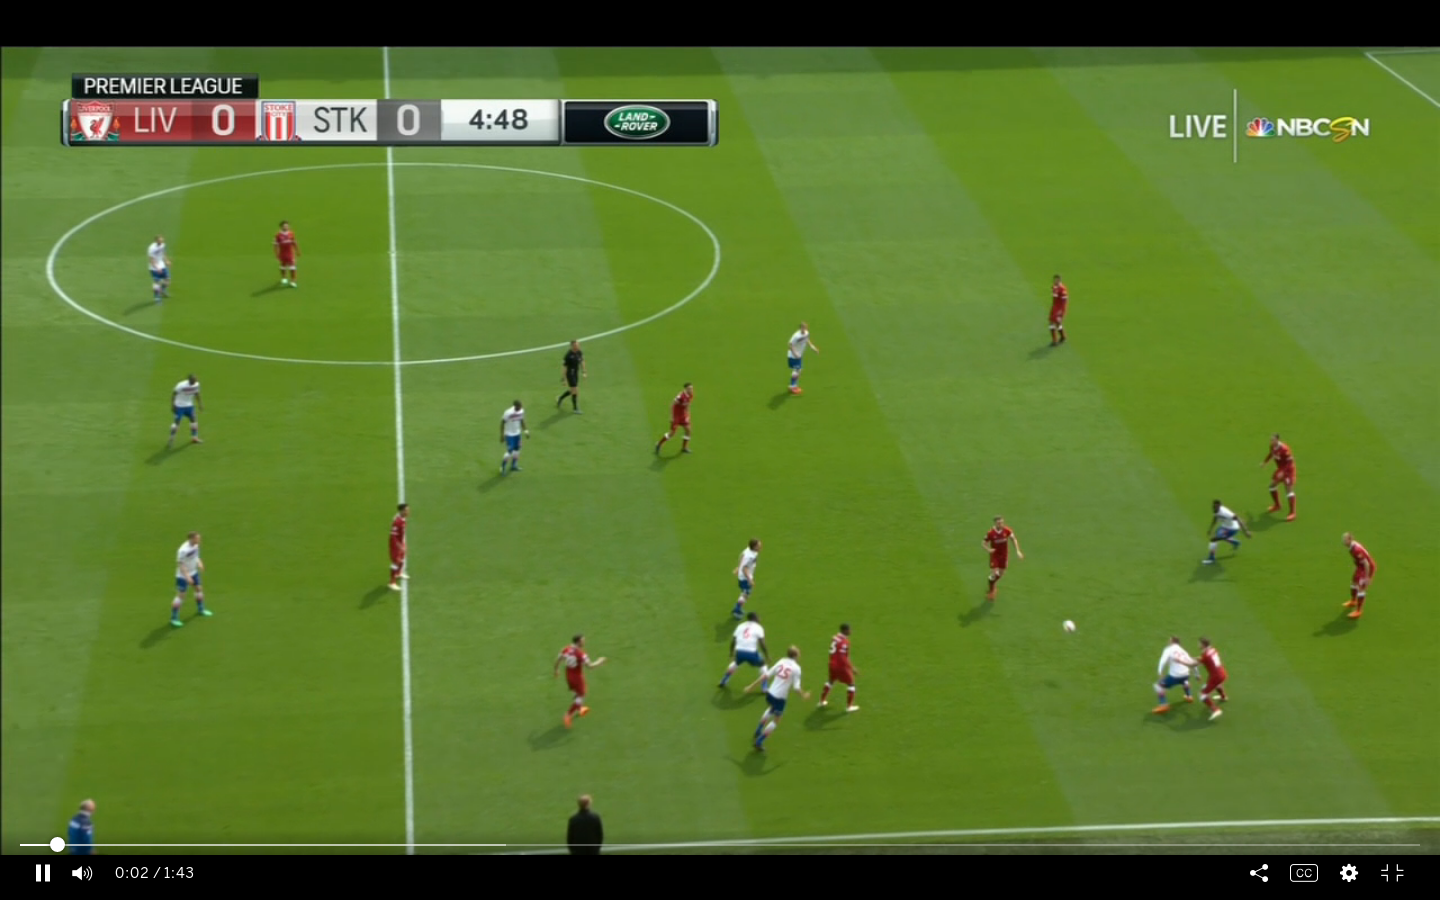referee: (555, 334, 584, 420)
soccer player: (752, 642, 810, 762), (970, 509, 1032, 612), (548, 626, 607, 729), (162, 529, 219, 629), (1333, 523, 1381, 623), (716, 614, 772, 699), (1255, 426, 1305, 522), (650, 376, 699, 472), (815, 619, 864, 714), (161, 371, 213, 452), (1147, 632, 1193, 722), (1188, 631, 1233, 719), (1201, 494, 1253, 566), (385, 494, 418, 600), (779, 319, 818, 403), (725, 529, 764, 612), (495, 396, 533, 477), (268, 217, 302, 294), (141, 236, 178, 302), (1045, 269, 1073, 348)
soccerball: (1055, 616, 1082, 640)
